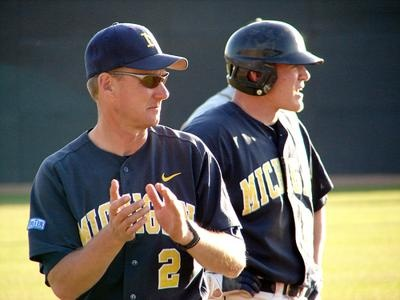person without safety: (27, 26, 213, 299), (219, 19, 335, 298)
